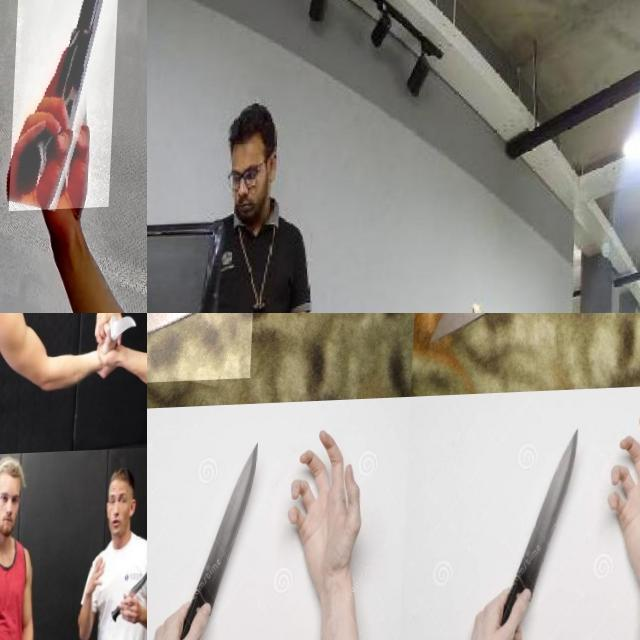-: (496, 425, 586, 640), (176, 436, 265, 640), (425, 313, 576, 393), (147, 313, 258, 403), (112, 566, 147, 629), (96, 313, 141, 353), (0, 325, 26, 372), (0, 605, 18, 640)
gun-knife-thesis - v11 Yolov5 augmented: (11, 0, 120, 212)
